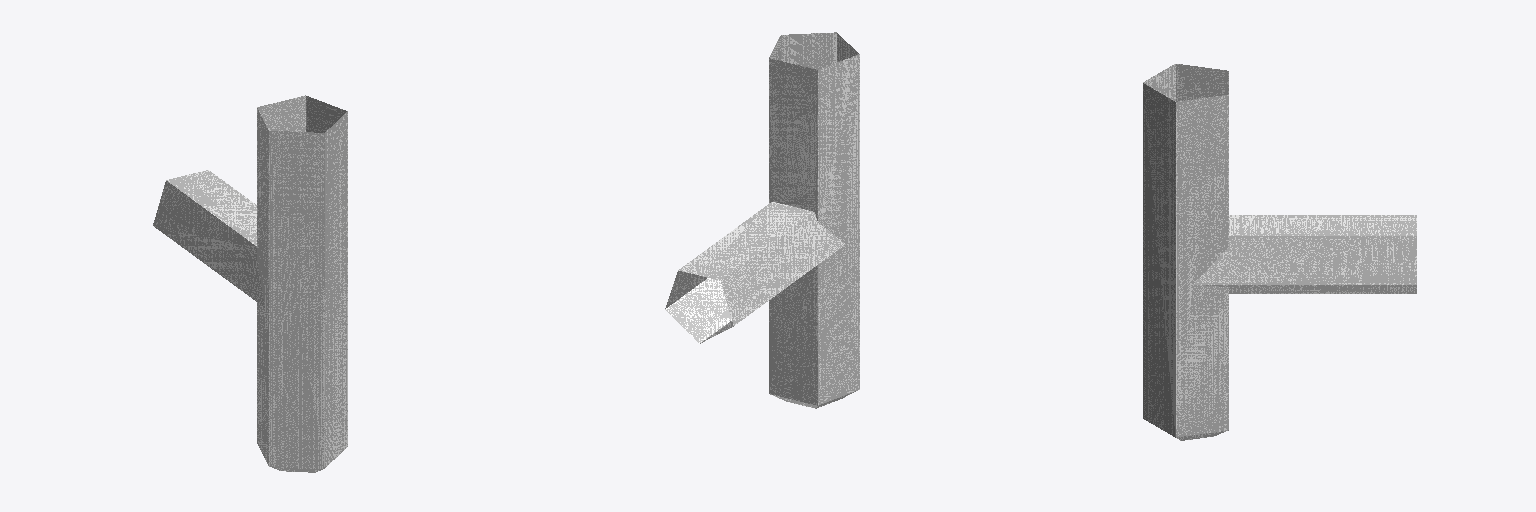
File: original-42.obj
3 renders of one model, left to right at view 1: azimuth 30°, elevation 25°; view 2: azimuth 150°, elevation 25°; view 3: azimuth 270°, elevation 25°, orthographic.
Parts seen in each view (by area): view 1: bpe12r1/bpe12r/mesh23/mesh23-geometry#mesh23-geometry; view 2: bpe12r1/bpe12r/mesh23/mesh23-geometry#mesh23-geometry; view 3: bpe12r1/bpe12r/mesh23/mesh23-geometry#mesh23-geometry.
Part boxes in pixels (bbox=[...]): bpe12r1/bpe12r/mesh23/mesh23-geometry#mesh23-geometry: bbox=[153, 95, 347, 472]; bpe12r1/bpe12r/mesh23/mesh23-geometry#mesh23-geometry: bbox=[665, 32, 859, 408]; bpe12r1/bpe12r/mesh23/mesh23-geometry#mesh23-geometry: bbox=[1143, 64, 1416, 440].
Bounding box in the file's own units: 0.0097 × 0.041 × 0.0294.